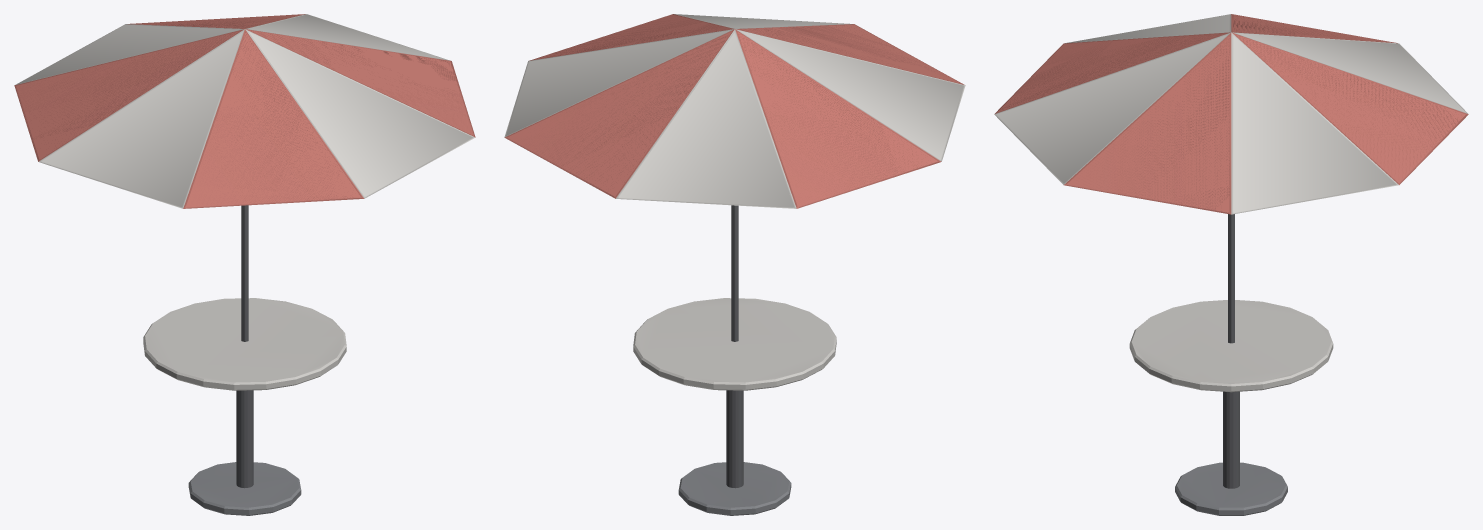
The model's file is furn_parasol_table__red.glb.
3 renders of one model, left to right at view 1: azimuth 30°, elevation 25°; view 2: azimuth 150°, elevation 25°; view 3: azimuth 270°, elevation 25°, orthographic.
Size of the model in its own units: 2.1 by 2.25 by 2.1.
